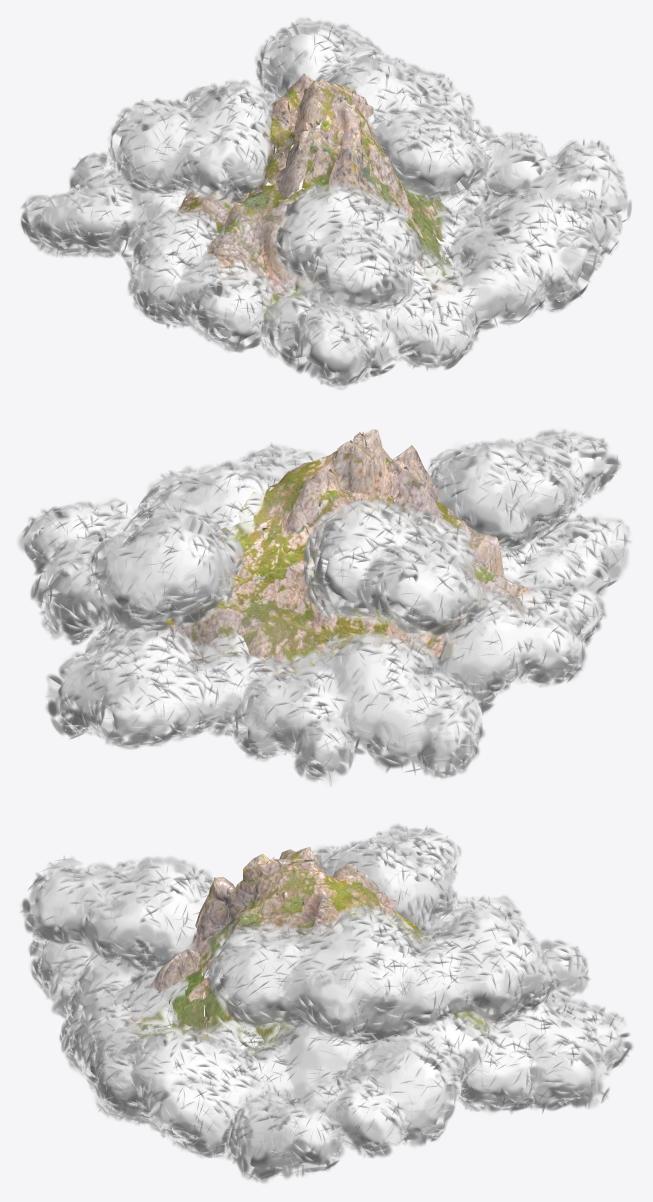
Rendered from mountain.glb.
3 renders of one model, top to bottom at view 1: azimuth 30°, elevation 25°; view 2: azimuth 150°, elevation 25°; view 3: azimuth 270°, elevation 25°, orthographic. The views are drawn at different scales.
Parts seen in each view (by area): view 1: Object_2; view 2: Object_2; view 3: Object_2.
Part boxes in pixels (x1,y1,x2,y2): Object_2: (18, 17, 631, 389); Object_2: (17, 427, 632, 786); Object_2: (19, 823, 632, 1183).
Bounding box in the file's own units: 74.41 × 30.93 × 77.59.
Materials: 3 (2 with a texture image).
